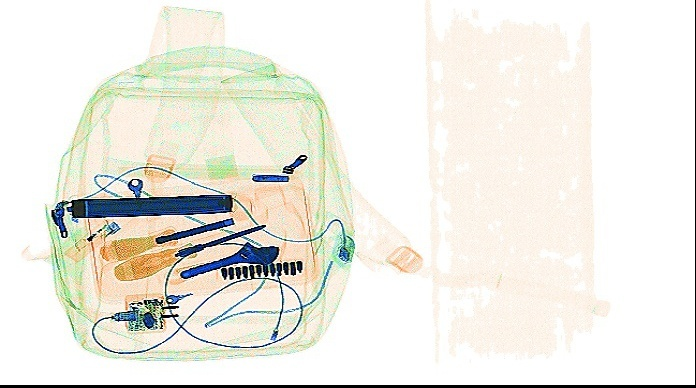lighter: (61, 216, 120, 263)
